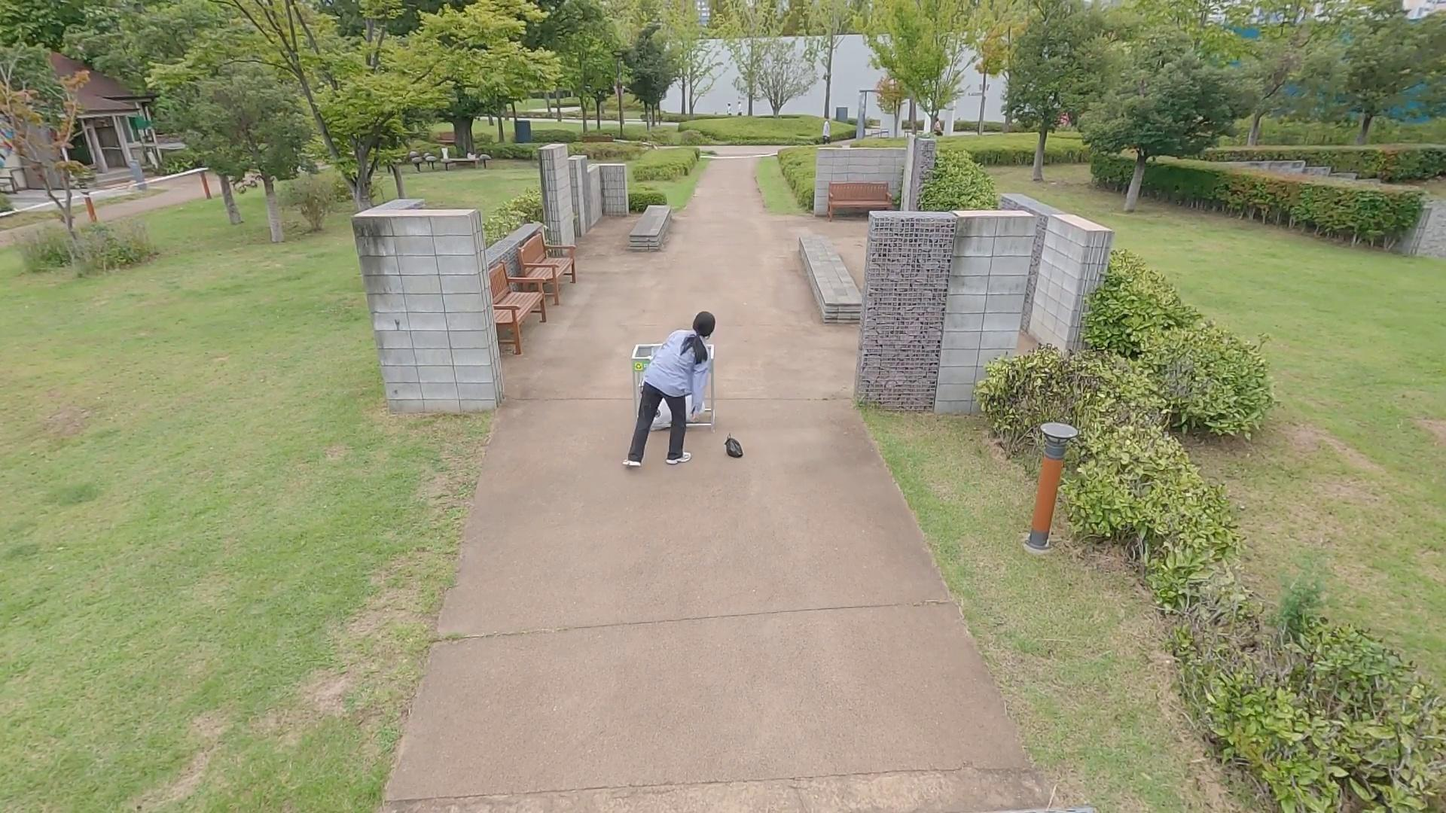person: (623, 311, 716, 471), (823, 115, 831, 145)
trash: (724, 433, 745, 461)
